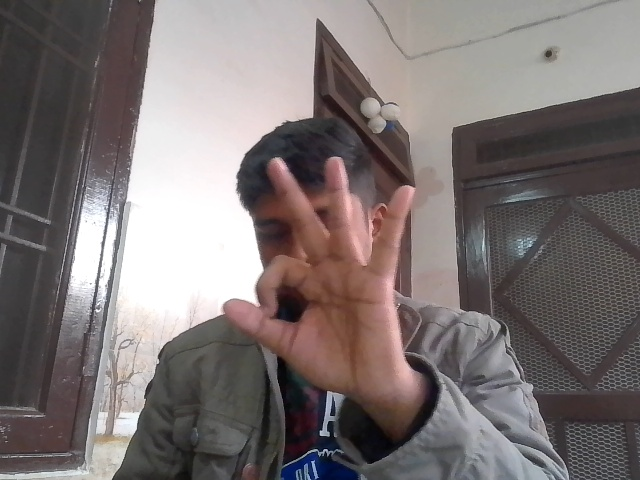Good: (208, 148, 425, 394)
